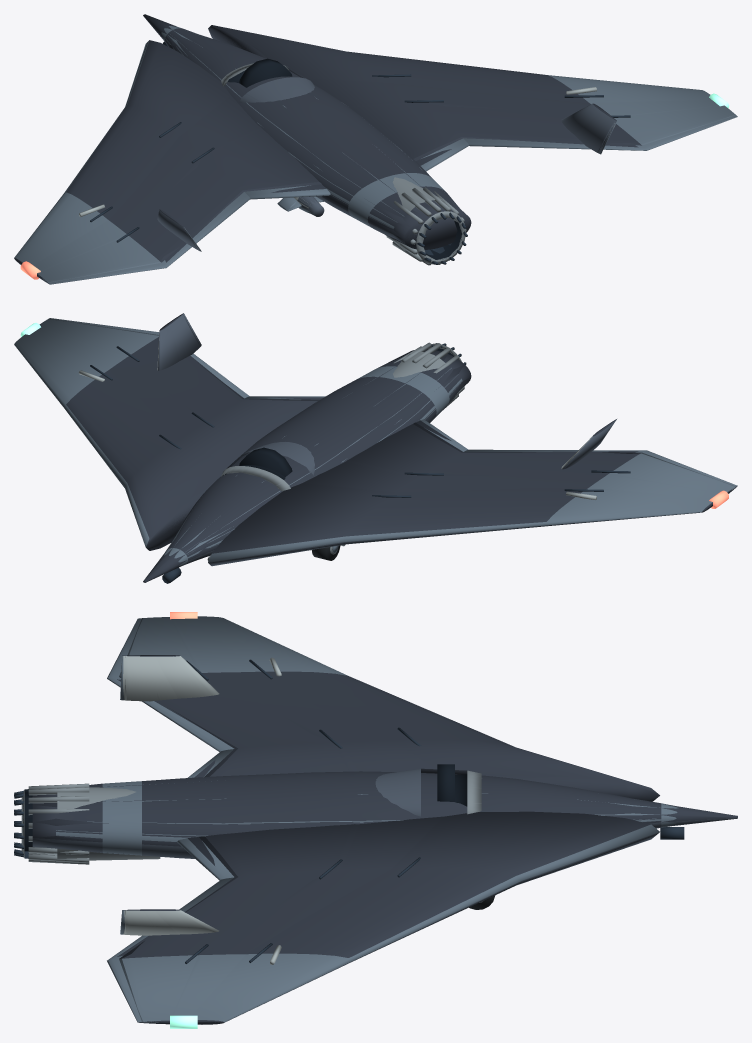
Rendered from shade-drone.glb.
3 views of the same model, one above another, from view 1: azimuth 30°, elevation 25°; view 2: azimuth 150°, elevation 25°; view 3: azimuth 270°, elevation 25° (orthographic). The views are drawn at different scales.
Visible parts, largest first — view 1: Airframe shell mesh, Airframe shell.001 mesh, Airframe shell.002 mesh, Hinged Aileron.001, Hinged Aileron, Store_0 mesh; view 2: Airframe shell mesh, Airframe shell.001 mesh, Airframe shell.002 mesh, Hinged Aileron, Hinged Aileron.001; view 3: Airframe shell mesh, Airframe shell.001 mesh, Airframe shell.002 mesh, Hinged Aileron, Hinged Aileron.001.
Boxes of the visible parts, x1,y1,x2,y2 form: Airframe shell mesh: (14, 14, 729, 279); Airframe shell.001 mesh: (33, 14, 736, 283); Airframe shell.002 mesh: (37, 14, 735, 282); Hinged Aileron.001: (463, 116, 737, 150); Hinged Aileron: (42, 192, 250, 284); Store_0 mesh: (277, 196, 324, 216); Airframe shell mesh: (14, 313, 728, 583); Airframe shell.001 mesh: (33, 313, 737, 582); Airframe shell.002 mesh: (39, 315, 736, 582); Hinged Aileron: (464, 449, 737, 489); Hinged Aileron.001: (50, 318, 249, 398); Airframe shell mesh: (14, 612, 737, 1028); Airframe shell.001 mesh: (21, 617, 737, 1024); Airframe shell.002 mesh: (21, 618, 737, 1024); Hinged Aileron: (107, 618, 234, 751); Hinged Aileron.001: (107, 877, 233, 1023).
Bounding box in the file's own units: 9.43 × 1.09 × 7.05.
